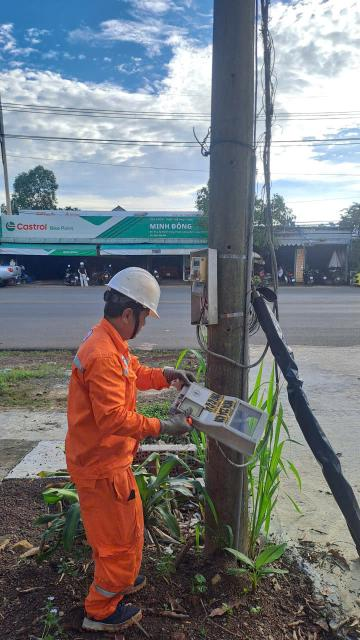gloves: (146, 361, 203, 392), (148, 409, 198, 438)
helmet: (101, 262, 177, 323)
shoes: (73, 600, 147, 638), (87, 565, 164, 599)
